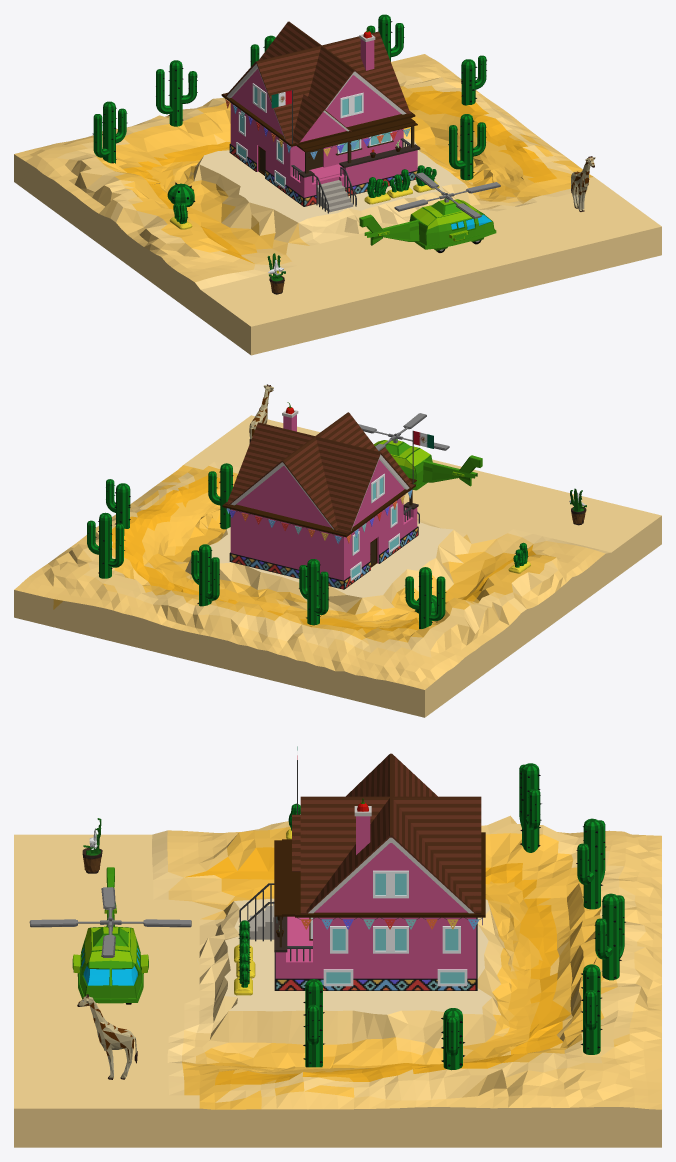
3 views of the same model, one above another, from view 1: azimuth 30°, elevation 25°; view 2: azimuth 150°, elevation 25°; view 3: azimuth 270°, elevation 25° (orthographic). The views are drawn at different scales.
Parts seen in each view (by area): view 1: Cube.001, Cube.1005, VEHICLES_HELICOPTER, Cylinder.044, Cylinder.037, Cylinder.045, Cylinder.038, Cylinder.042, ANIMAL_JIRAFA, Cylinder.039, OBJRANDOM_MONJA BLANCA, Sphere.023; view 2: Cube.001, Cube.1005, VEHICLES_HELICOPTER, Cylinder.042, Cylinder.045, Cylinder.044, Cylinder.043, Cylinder.037, Cylinder.038; view 3: Cube.001, Cube.1005, VEHICLES_HELICOPTER, Cylinder.044, Cylinder.043, Cylinder.045, Cylinder.042, Cylinder.037, ANIMAL_JIRAFA, Cylinder.038, OBJRANDOM_MONJA BLANCA, Cylinder.041.
Boxes of the visible parts, bbox=[...] form: Cube.001: bbox=[14, 54, 661, 355]; Cube.1005: bbox=[221, 21, 420, 213]; VEHICLES_HELICOPTER: bbox=[359, 172, 500, 252]; Cylinder.044: bbox=[156, 60, 197, 126]; Cylinder.037: bbox=[448, 114, 486, 180]; Cylinder.045: bbox=[92, 101, 127, 163]; Cylinder.038: bbox=[461, 55, 486, 105]; Cylinder.042: bbox=[366, 14, 404, 61]; ANIMAL_JIRAFA: bbox=[571, 156, 595, 211]; Cylinder.039: bbox=[364, 177, 390, 204]; OBJRANDOM_MONJA BLANCA: bbox=[267, 253, 285, 294]; Sphere.023: bbox=[167, 182, 195, 206]; Cube.001: bbox=[14, 415, 661, 717]; Cube.1005: bbox=[222, 402, 433, 589]; VEHICLES_HELICOPTER: bbox=[358, 413, 482, 490]; Cylinder.042: bbox=[87, 512, 125, 578]; Cylinder.045: bbox=[405, 567, 446, 628]; Cylinder.044: bbox=[299, 559, 328, 625]; Cylinder.043: bbox=[191, 544, 219, 606]; Cylinder.037: bbox=[208, 463, 237, 529]; Cylinder.038: bbox=[106, 479, 130, 528]; Cube.001: bbox=[14, 815, 661, 1147]; Cube.1005: bbox=[239, 746, 485, 990]; VEHICLES_HELICOPTER: bbox=[29, 867, 191, 1004]; Cylinder.044: bbox=[576, 818, 606, 909]; Cylinder.043: bbox=[594, 893, 625, 980]; Cylinder.045: bbox=[519, 763, 541, 852]; Cylinder.042: bbox=[581, 964, 602, 1054]; Cylinder.037: bbox=[303, 979, 324, 1067]; ANIMAL_JIRAFA: bbox=[77, 994, 137, 1079]; Cylinder.038: bbox=[441, 1008, 464, 1070]; OBJRANDOM_MONJA BLANCA: bbox=[82, 818, 102, 873]; Cylinder.041: bbox=[234, 953, 252, 995].
Size of the model in its own units: 4002 by 1716 by 4001.
71 materials, 4 textured.
